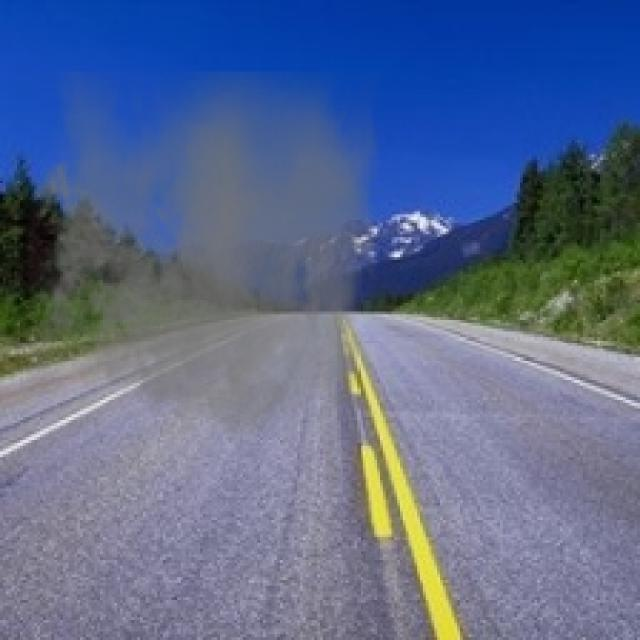Smoke: (26, 71, 380, 460)
